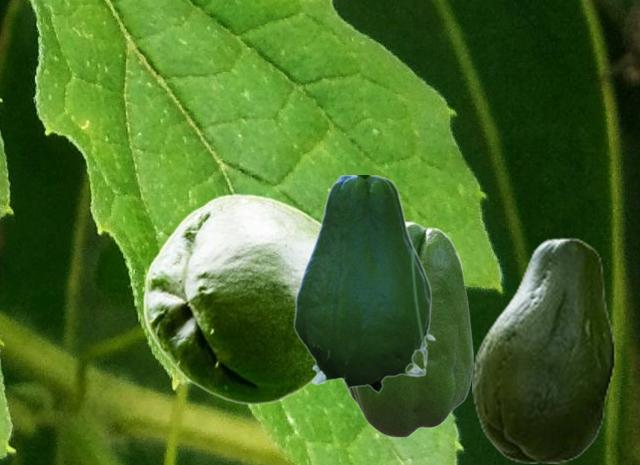sayote: (142, 193, 320, 404), (472, 237, 614, 462), (293, 175, 435, 396), (344, 221, 473, 437)
